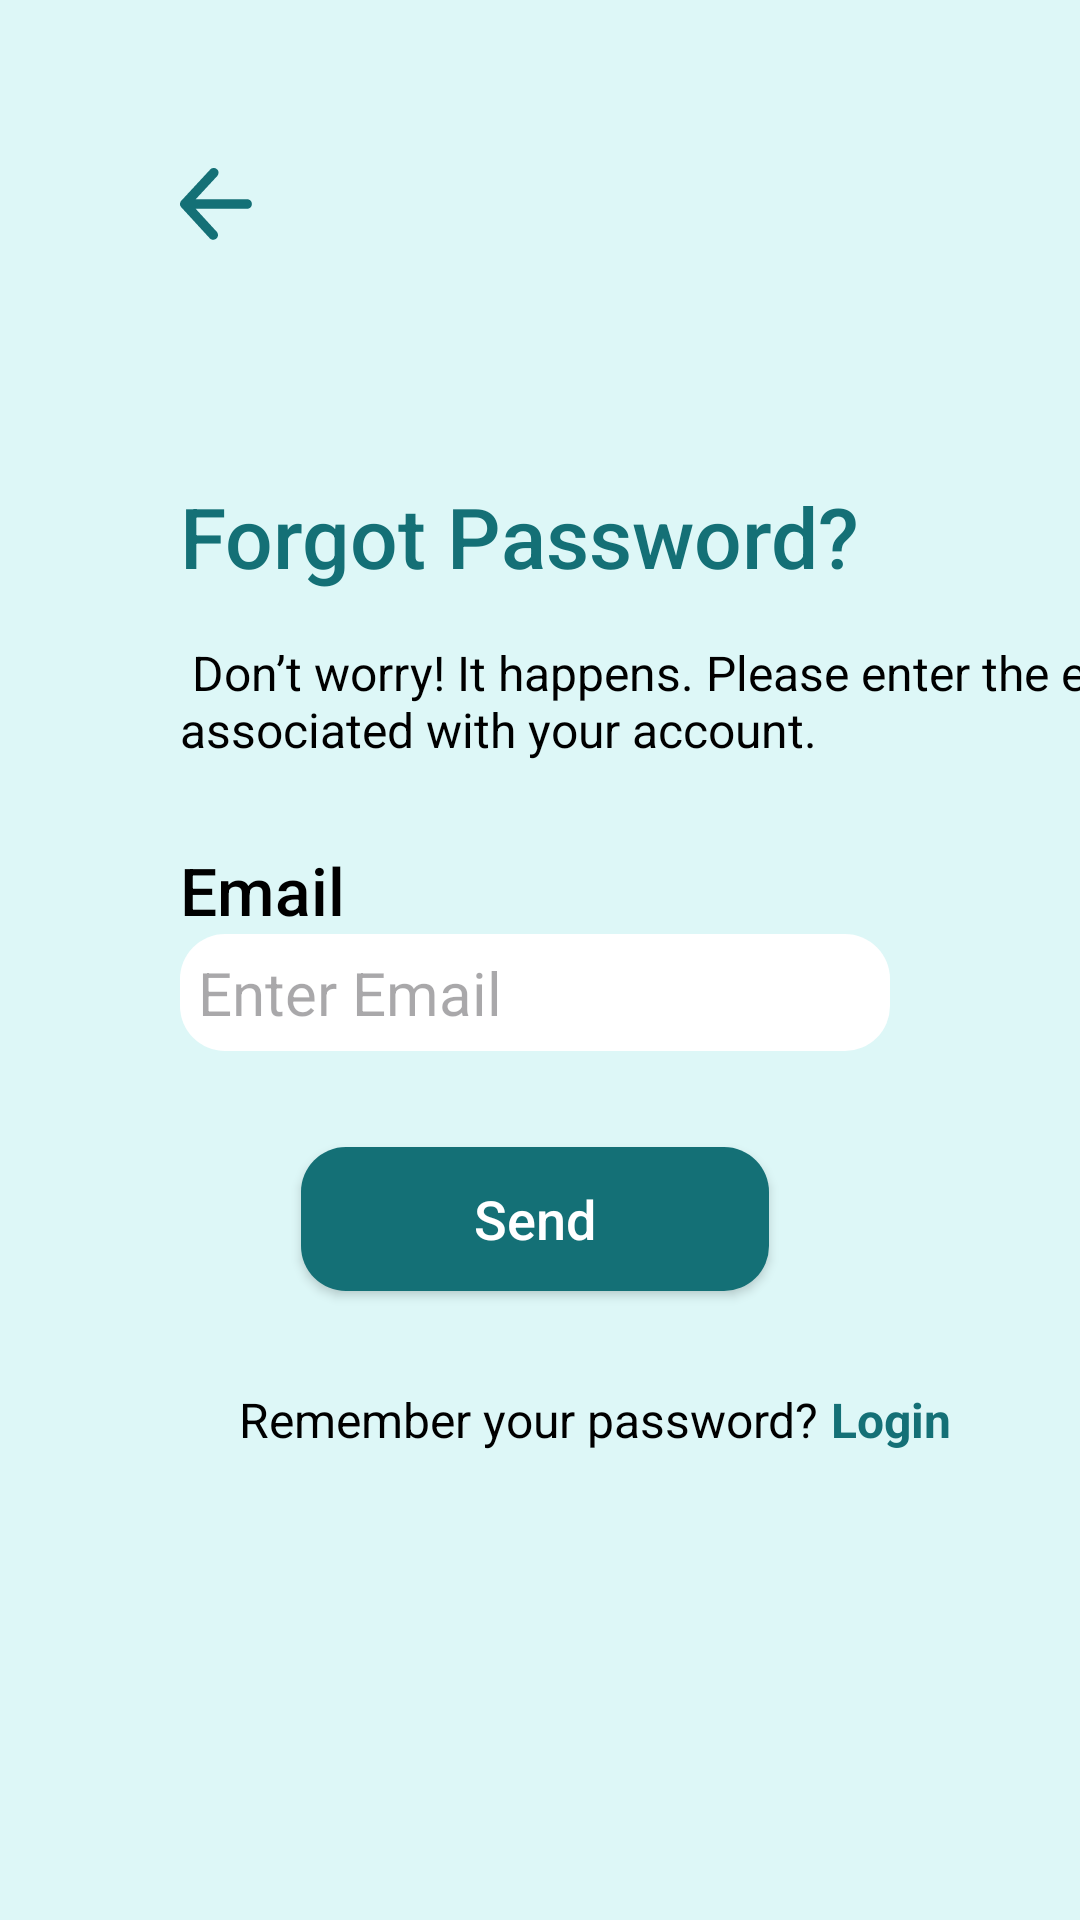

Screen size 1080w x 1920h. Icon name, then its box in pixels as Rect(x1, y1, x2, y2):
back: Rect(180, 168, 252, 240)
